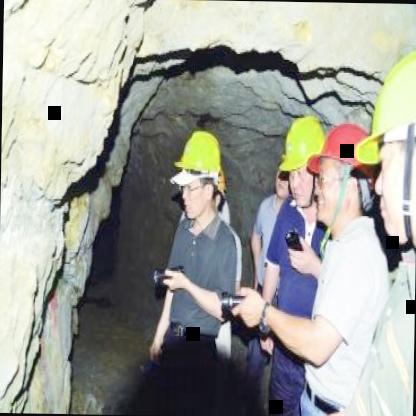helmet: (365, 42, 416, 256), (310, 123, 372, 216), (172, 126, 226, 224), (278, 110, 323, 205)
